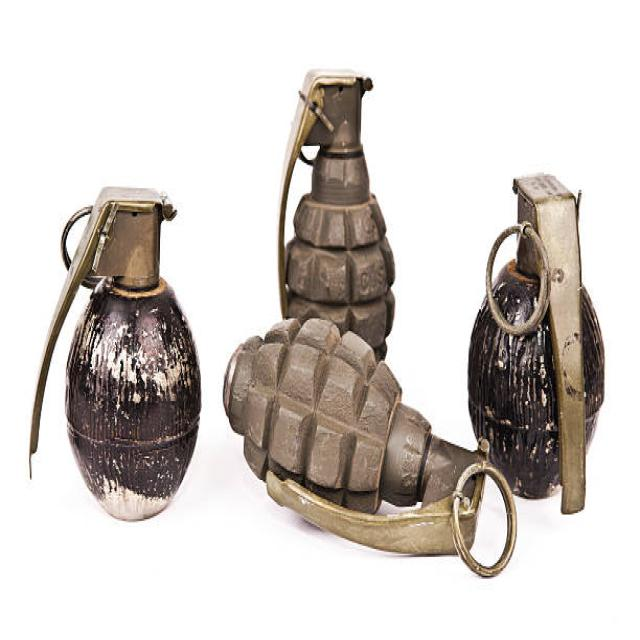grenade: (221, 311, 520, 586), (26, 183, 206, 533), (464, 169, 611, 516), (274, 68, 400, 363)
